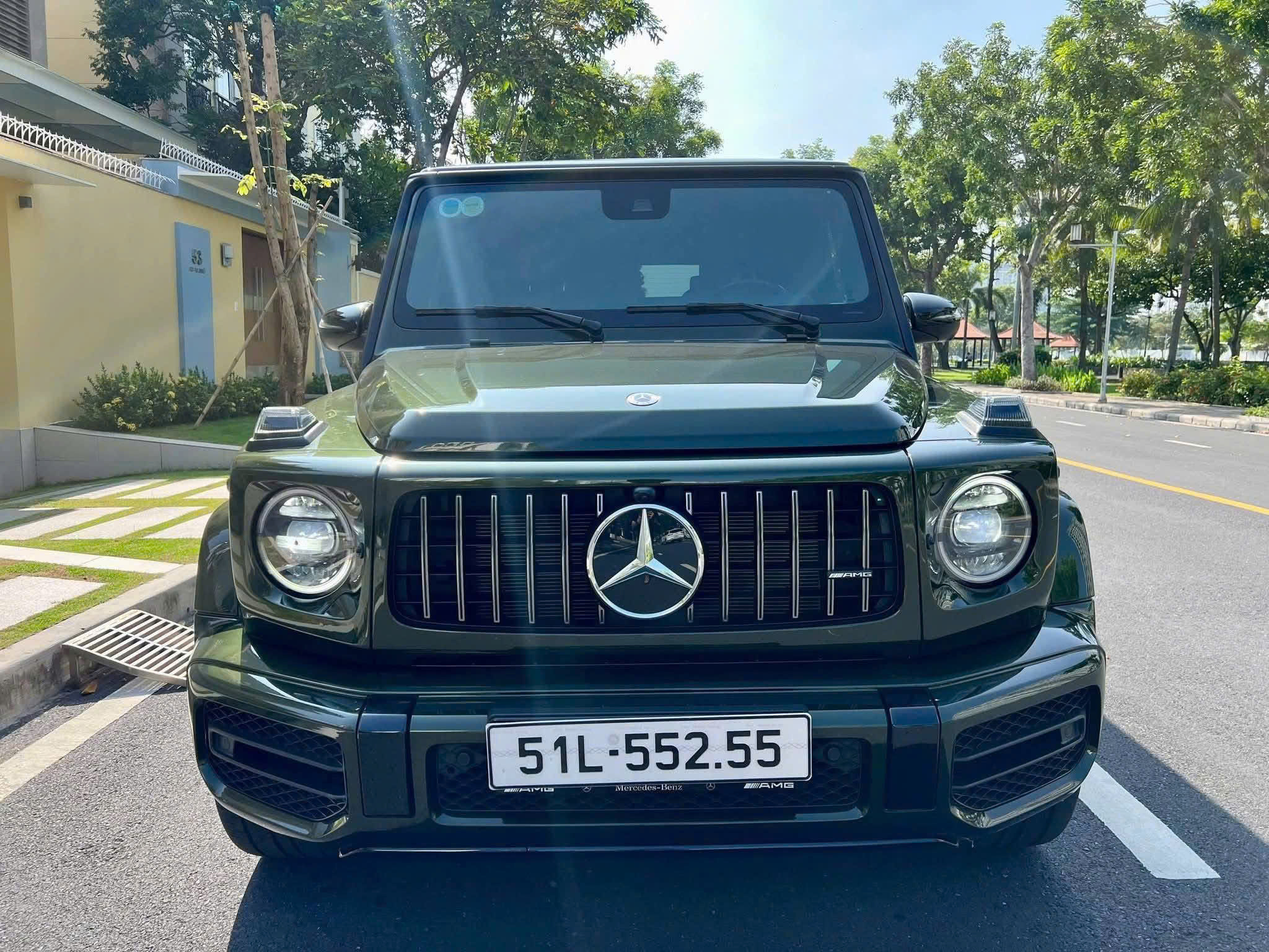Bien-so: (496, 722, 808, 784)
